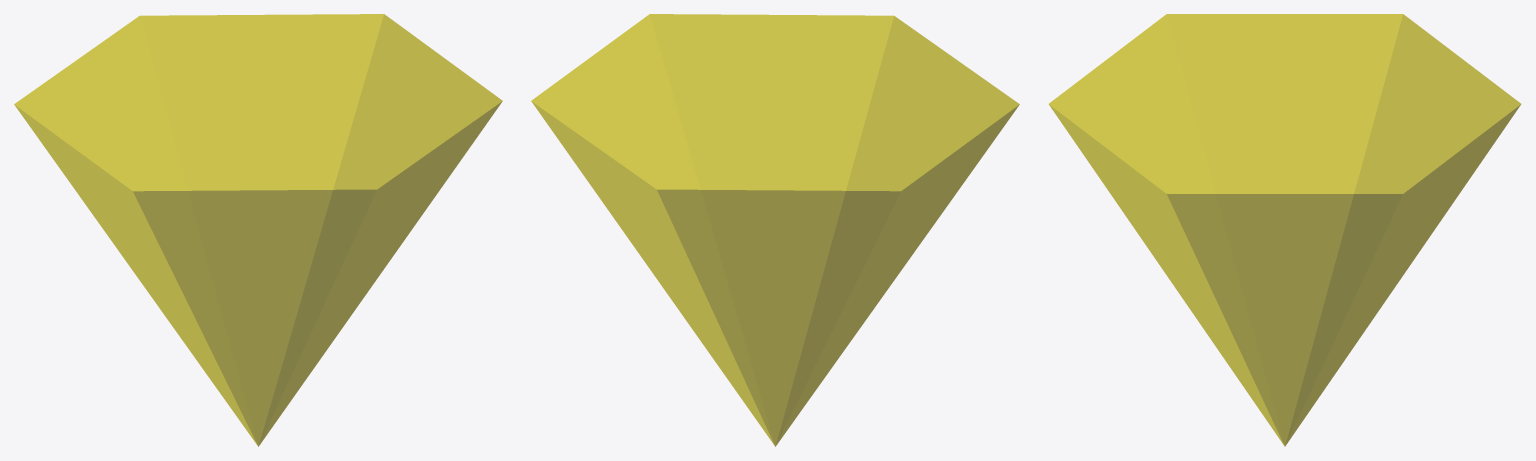
Rendered from _by_gaze_line.dae.
The picture shows the model from 3 angles, left to right: view 1: azimuth 30°, elevation 25°; view 2: azimuth 150°, elevation 25°; view 3: azimuth 270°, elevation 25°; orthographic projection.
Visible parts, largest first — view 1: Cone; view 2: Cone; view 3: Cone.
Boxes of the visible parts, x1=… form: Cone: x1=14, y1=14, x2=502, y2=446; Cone: x1=531, y1=14, x2=1019, y2=446; Cone: x1=1048, y1=14, x2=1521, y2=446.
Size of the model in its own units: 450 by 500 by 400.
